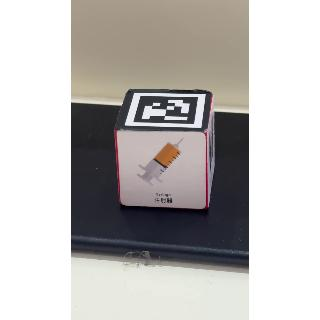Syringe: (117, 127, 207, 211)
